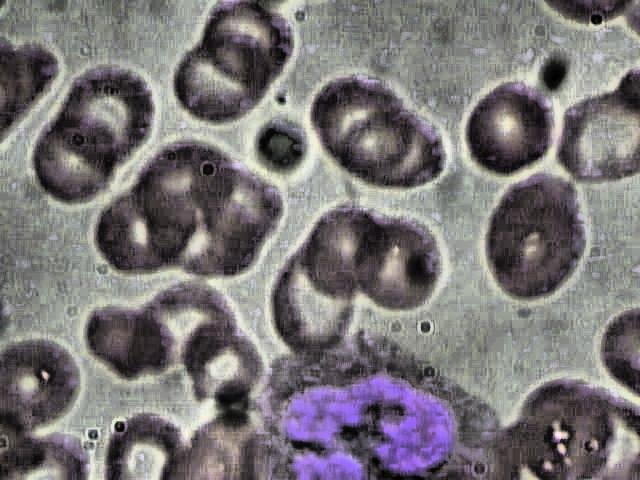RBC: (476, 171, 599, 307), (163, 31, 289, 131), (304, 64, 413, 174), (346, 212, 455, 316), (453, 81, 555, 182), (24, 113, 127, 207), (91, 181, 190, 276), (60, 61, 153, 157), (191, 164, 292, 245), (174, 321, 265, 406), (83, 303, 175, 382), (169, 202, 263, 278)
WBC: (244, 327, 509, 480)
